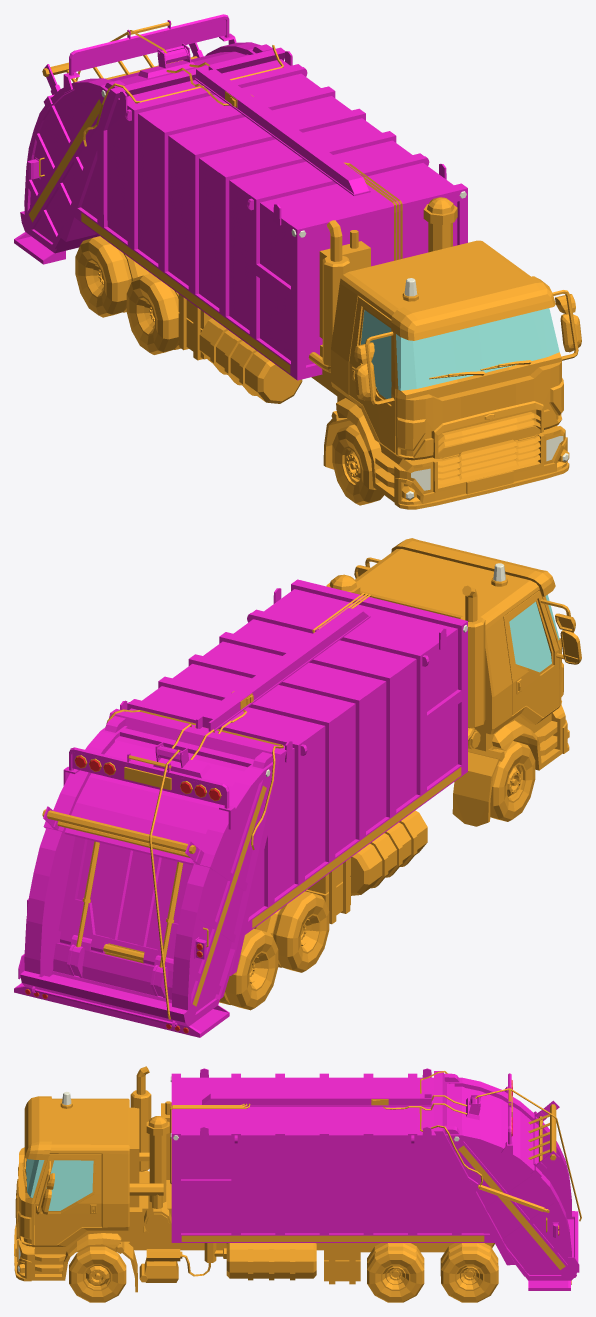
File: SM_Car_Truck_Modern_Garbage.fbx
3 renders of one model, top to bottom at view 1: azimuth 30°, elevation 25°; view 2: azimuth 150°, elevation 25°; view 3: azimuth 270°, elevation 25°, orthographic. The views are drawn at different scales.
Parts seen in each view (by area): view 1: SM_Car_Truck_Modern_Garbage_Base, SM_Car_Truck_Modern_Garbage_Door_R, SM_Car_Truck_Modern_Garbage_Wheel_RB2, SM_Car_Truck_Modern_Garbage_Wheel_RB1, SM_Car_Truck_Modern_Garbage_Wheel_RF, SM_Car_Truck_Modern_Garbage_Door_L; view 2: SM_Car_Truck_Modern_Garbage_Base, SM_Car_Truck_Modern_Garbage_Door_R, SM_Car_Truck_Modern_Garbage_Wheel_RB1, SM_Car_Truck_Modern_Garbage_Wheel_RB2, SM_Car_Truck_Modern_Garbage_Wheel_RF; view 3: SM_Car_Truck_Modern_Garbage_Base, SM_Car_Truck_Modern_Garbage_Door_L, SM_Car_Truck_Modern_Garbage_Wheel_LB2, SM_Car_Truck_Modern_Garbage_Wheel_LB1, SM_Car_Truck_Modern_Garbage_Wheel_LF.
Part boxes in pixels (bbox=[...]): SM_Car_Truck_Modern_Garbage_Base: bbox=[14, 14, 569, 509]; SM_Car_Truck_Modern_Garbage_Door_R: bbox=[349, 296, 395, 453]; SM_Car_Truck_Modern_Garbage_Wheel_RB2: bbox=[75, 236, 150, 317]; SM_Car_Truck_Modern_Garbage_Wheel_RB1: bbox=[126, 273, 180, 354]; SM_Car_Truck_Modern_Garbage_Wheel_RF: bbox=[332, 424, 383, 505]; SM_Car_Truck_Modern_Garbage_Door_L: bbox=[552, 290, 581, 360]; SM_Car_Truck_Modern_Garbage_Base: bbox=[14, 538, 569, 1037]; SM_Car_Truck_Modern_Garbage_Door_R: bbox=[503, 590, 581, 717]; SM_Car_Truck_Modern_Garbage_Wheel_RB1: bbox=[254, 891, 329, 972]; SM_Car_Truck_Modern_Garbage_Wheel_RB2: bbox=[219, 929, 278, 1010]; SM_Car_Truck_Modern_Garbage_Wheel_RF: bbox=[490, 741, 535, 821]; SM_Car_Truck_Modern_Garbage_Base: bbox=[14, 1066, 581, 1292]; SM_Car_Truck_Modern_Garbage_Door_L: bbox=[35, 1154, 101, 1244]; SM_Car_Truck_Modern_Garbage_Wheel_LB2: bbox=[440, 1243, 498, 1302]; SM_Car_Truck_Modern_Garbage_Wheel_LB1: bbox=[367, 1243, 424, 1302]; SM_Car_Truck_Modern_Garbage_Wheel_LF: bbox=[69, 1246, 126, 1302].
Bounding box in the file's own units: 3.28 × 3.57 × 9.99.
